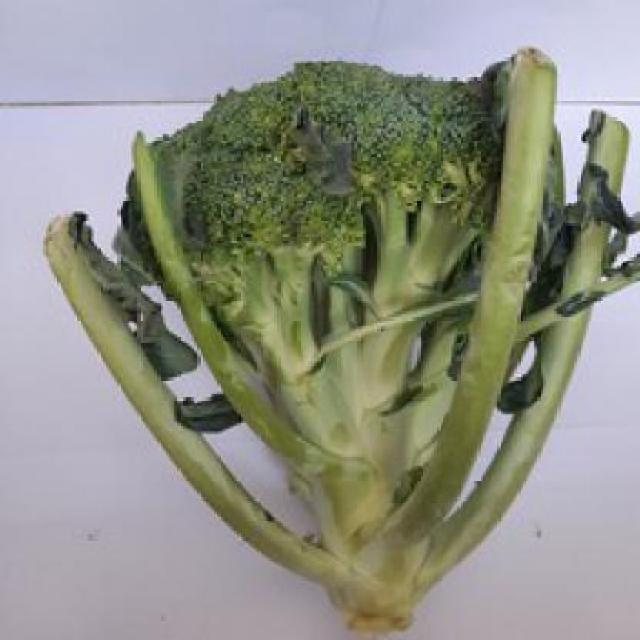broccoli: (99, 52, 638, 626)
